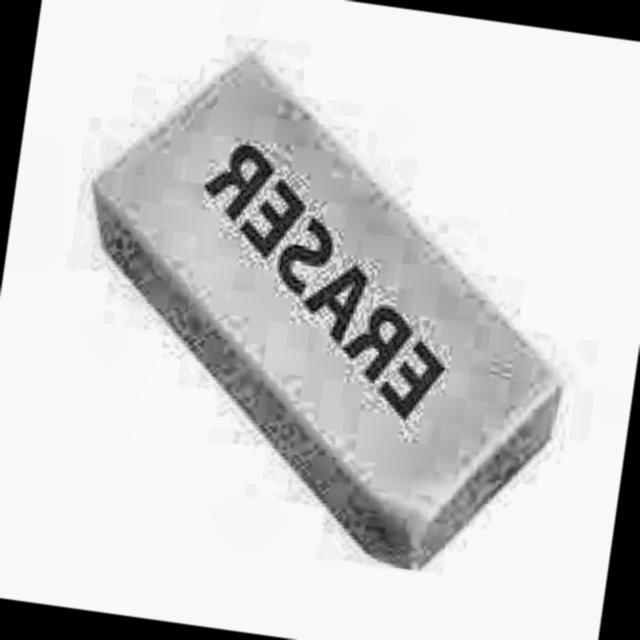eraser: (45, 26, 610, 588)
